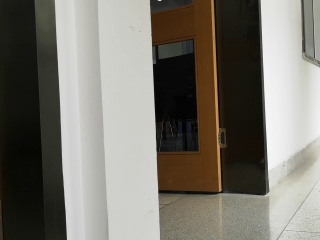room: (147, 1, 271, 193)
